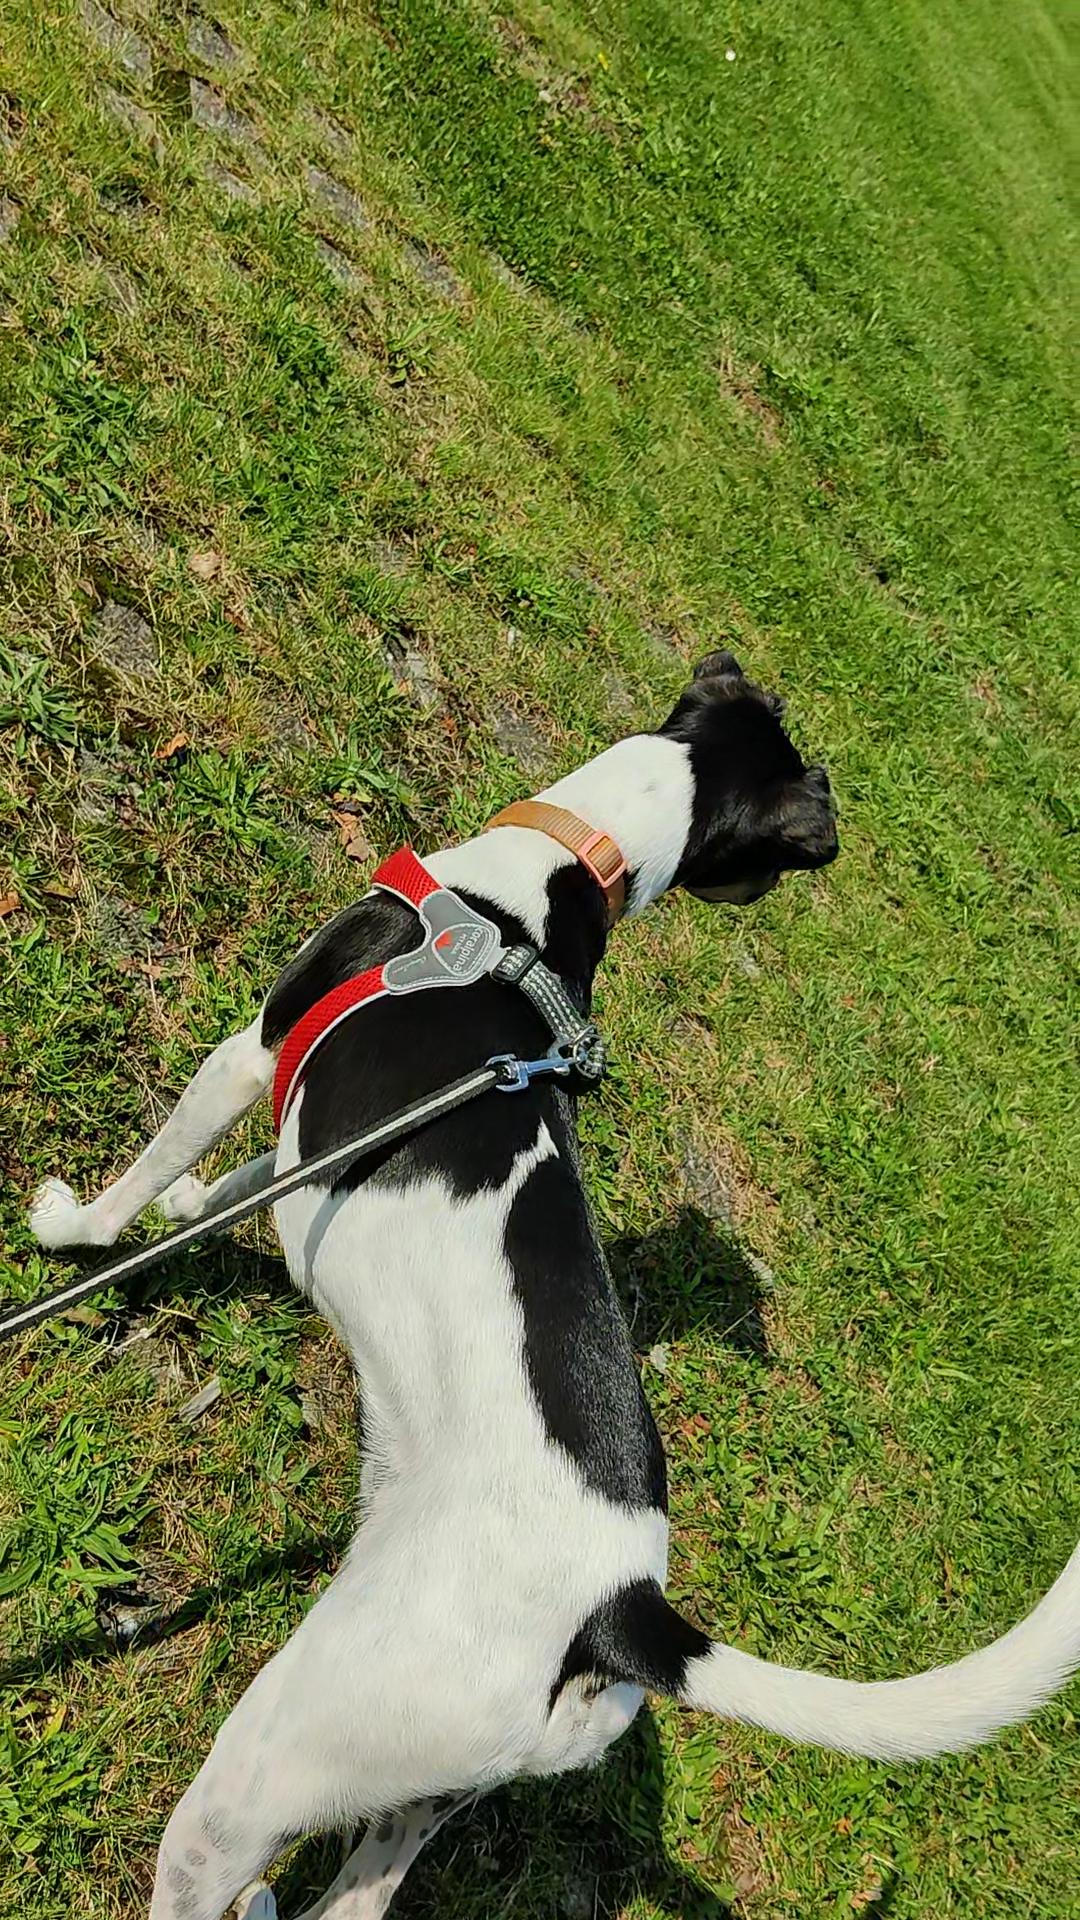Dog: (26, 640, 1079, 1919)
